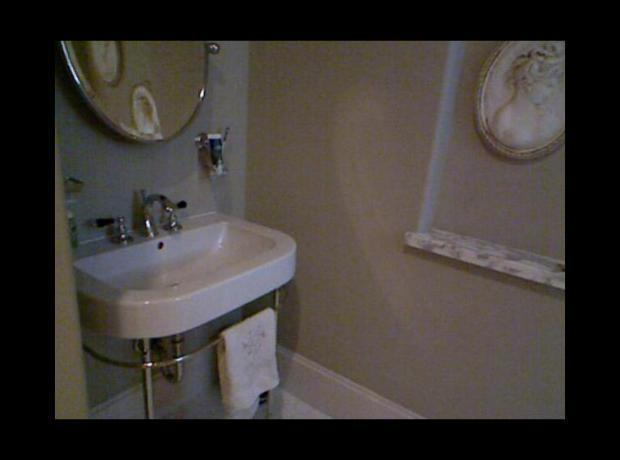Lavamanos: (86, 192, 306, 411)
